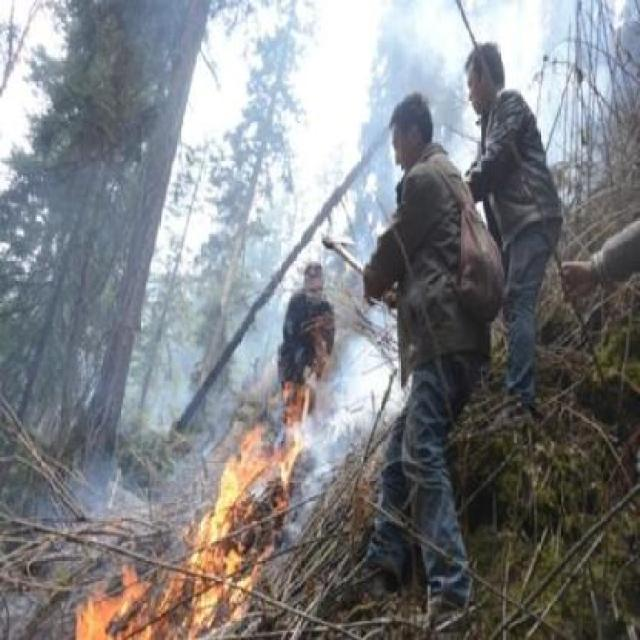Fire: (68, 370, 347, 640)
